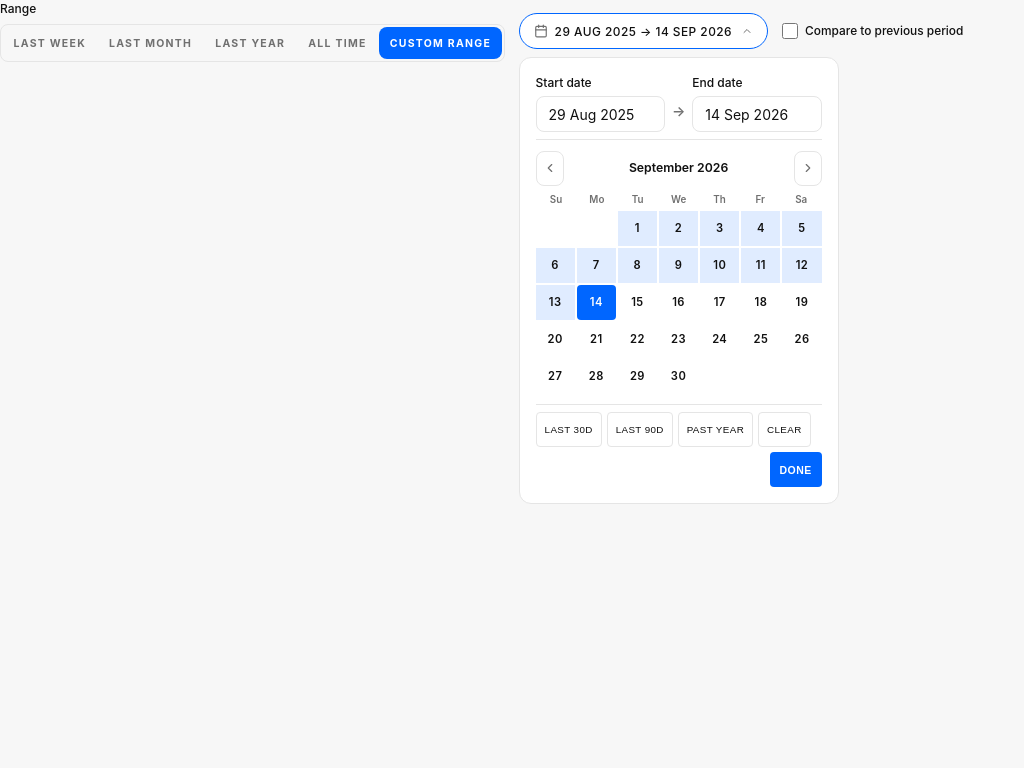
Scenario: DateRangeSelector › toggles the calendar popover when clicking the pill button
Check: the field labelled "Start date" is shown, box [536, 96, 665, 132]
Click pill to close
Click the button with aria-label "Custom date range": (643, 31) [519, 13, 768, 49]
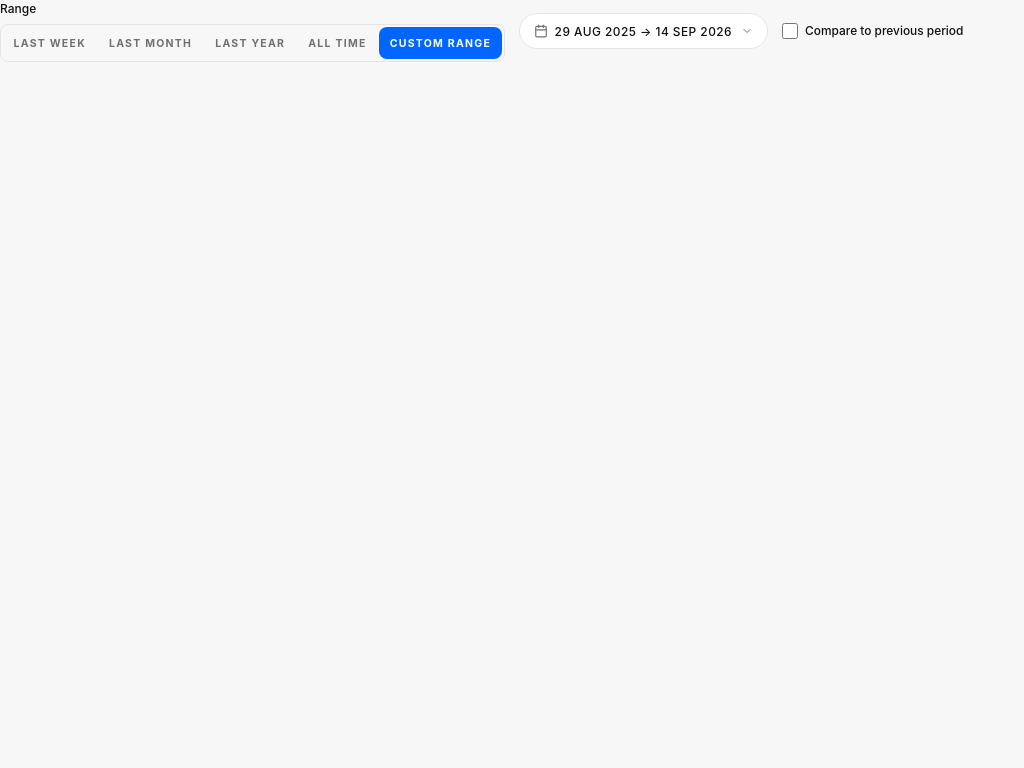
Check: the label labelled "Start date" is gone
Click pill to reopen
Click the button with aria-label "Custom date range": (643, 31) [519, 13, 768, 49]
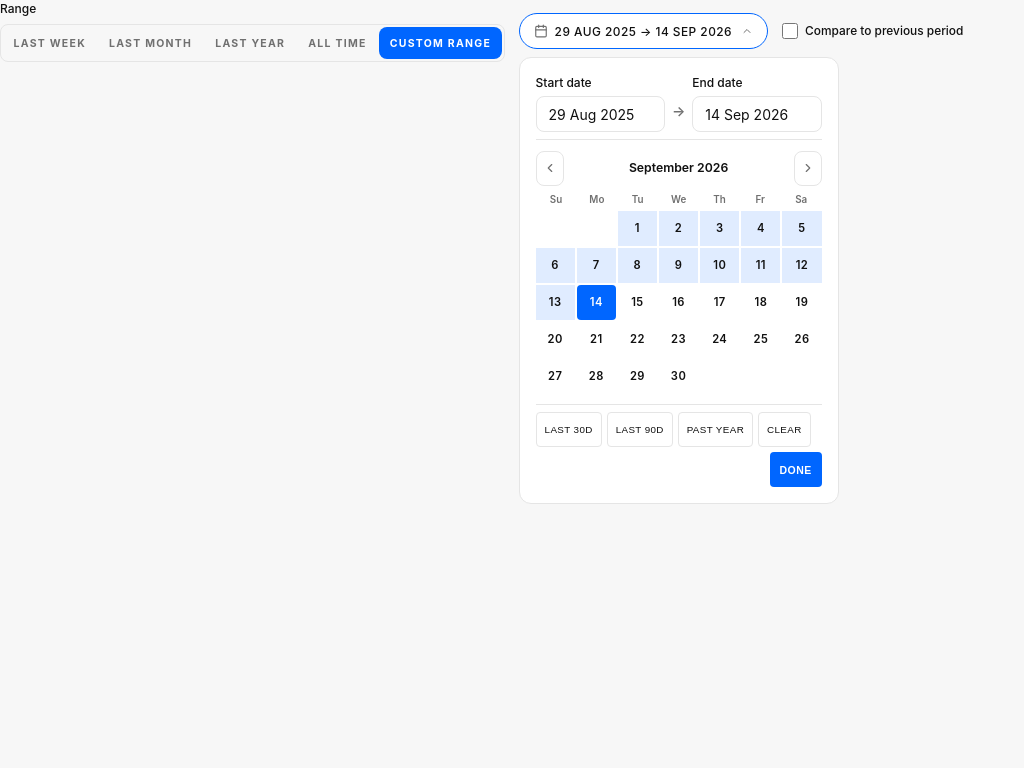
Check: the field labelled "Start date" is shown, box [536, 96, 665, 132]
